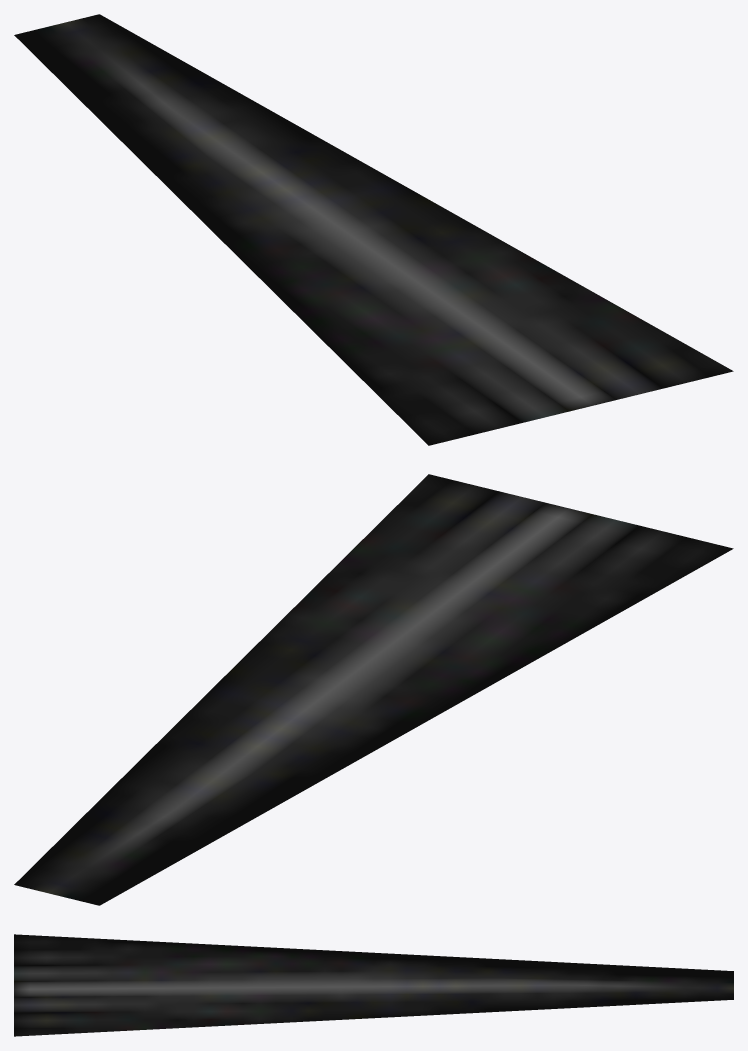
File: prop-047.glb
3 renders of one model, top to bottom at view 1: azimuth 30°, elevation 25°; view 2: azimuth 150°, elevation 25°; view 3: azimuth 270°, elevation 25°, orthographic. The views are drawn at different scales.
Visible parts, largest first — view 1: root; view 2: root; view 3: root.
Part boxes in pixels (x1=…): root: x1=14, y1=14, x2=733, y2=445; root: x1=14, y1=474, x2=733, y2=905; root: x1=14, y1=934, x2=733, y2=1036.
Size of the model in its own units: 0.6895 by 0 by 2.05.
1 material, 1 textured.
